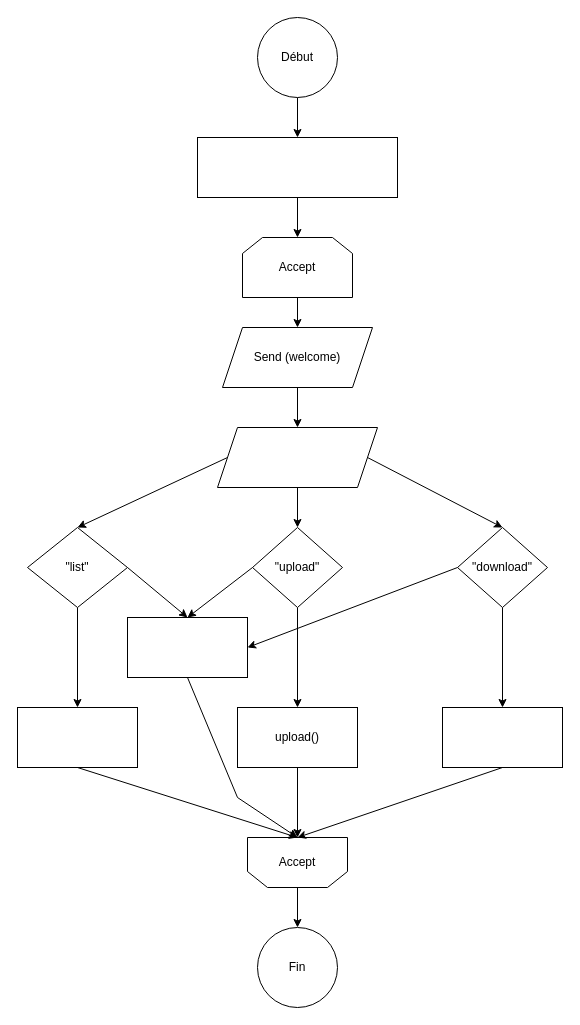
Image size: 580x1025. Some labels were removed from this diagram. Each missing label, with the centre of its shape:
"download()" goes at (x=502, y=737).
"Erreur" goes at (x=187, y=647).
"list()" goes at (x=77, y=737).
"Réception action client" goes at (x=297, y=457).
"Socket TCP (socket, bind, listen)" goes at (x=297, y=167).
